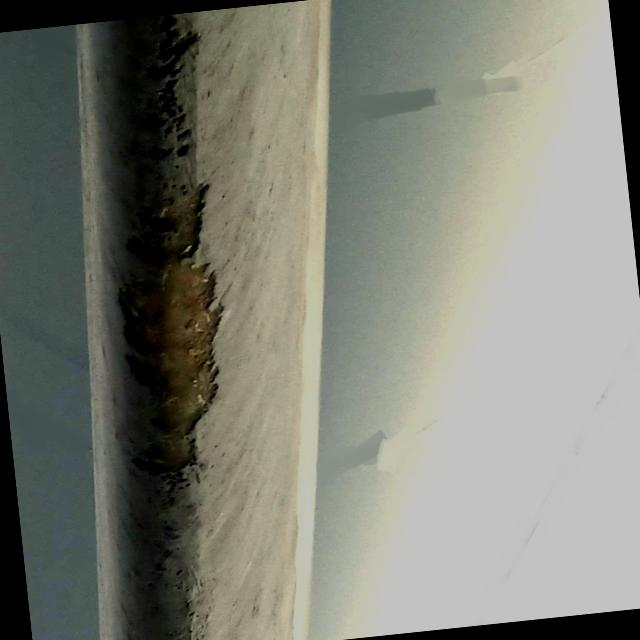corrosion: (88, 18, 254, 477)
